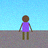person: (19, 15, 32, 39)
